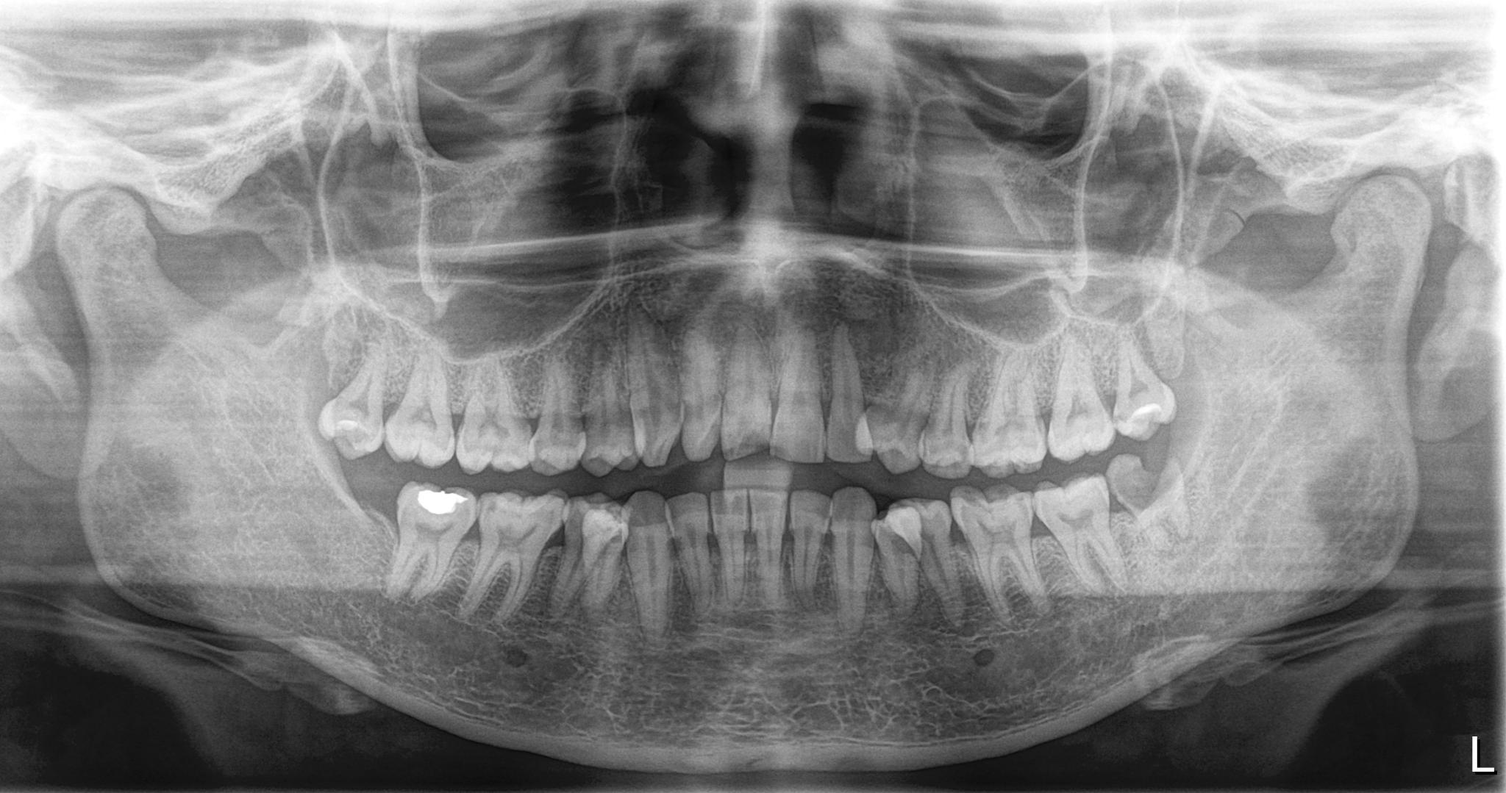Impacted Third Molar: (1116, 458, 1205, 542)
Missing Tooth: (342, 461, 399, 576)
